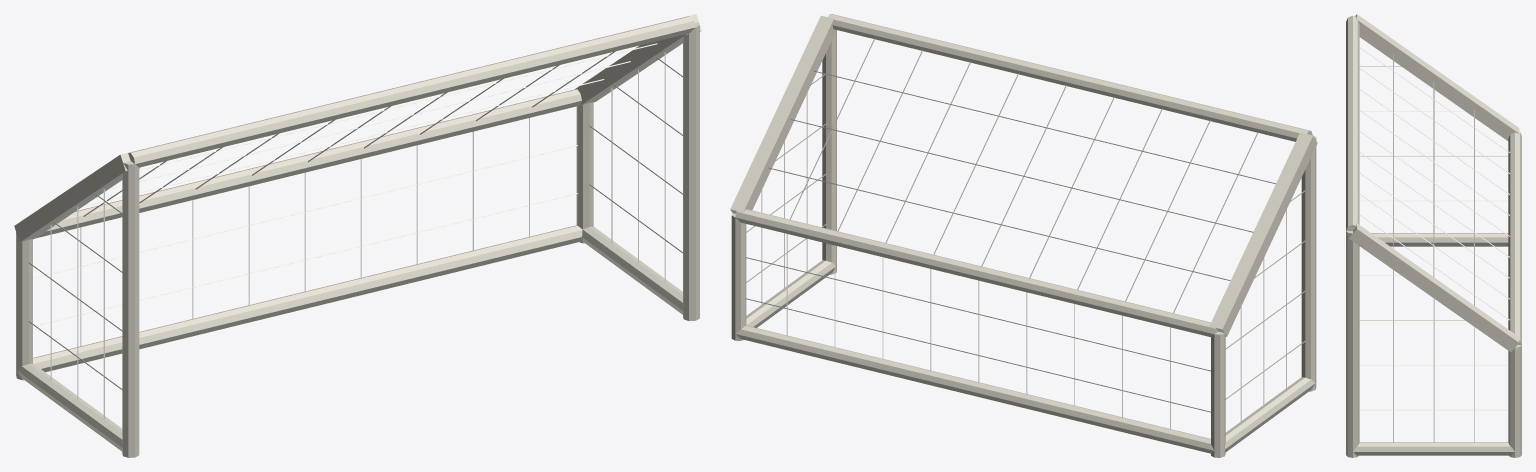
Rendered from GS_SoccerGoal_01.glb.
3 views of the same model, side by side, from view 1: azimuth 30°, elevation 25°; view 2: azimuth 150°, elevation 25°; view 3: azimuth 270°, elevation 25° (orthographic). The views are drawn at different scales.
Parts seen in each view (by area): view 1: GS_SoccerGoal_01; view 2: GS_SoccerGoal_01; view 3: GS_SoccerGoal_01.
Part boxes in pixels (x1,y1,x2,y2): GS_SoccerGoal_01: (14, 14, 701, 457); GS_SoccerGoal_01: (730, 14, 1317, 457); GS_SoccerGoal_01: (1346, 14, 1521, 457).
Size of the model in its own units: 3.76 by 1.88 by 1.3.
1 material, 1 textured.
